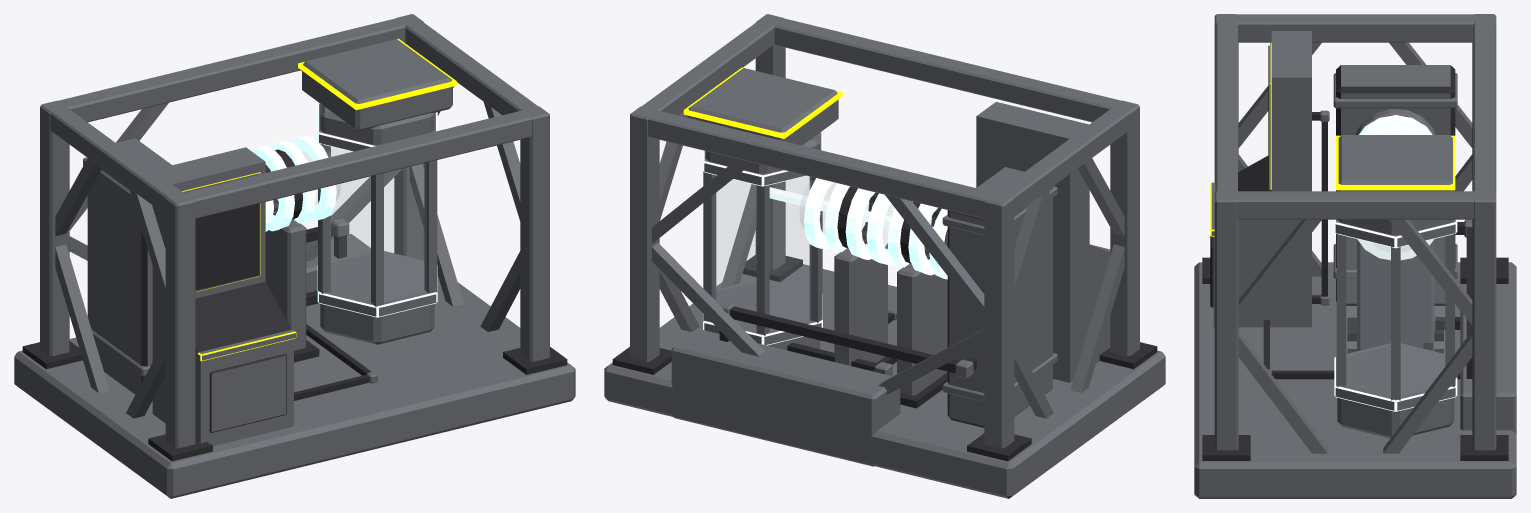
Rendered from ReactorS2.fbx.
3 renders of one model, left to right at view 1: azimuth 30°, elevation 25°; view 2: azimuth 150°, elevation 25°; view 3: azimuth 270°, elevation 25°, orthographic. The views are drawn at different scales.
Visible parts, largest first — view 1: Frame, Rail, Vessel Bands, Wiring, Coil 7, Coil 5, Coil 6; view 2: Frame, Rail, Vessel Bands, Wiring, Coil 5, Coil 7, Coil 4, Coil 6, Coil 2, Coil 3, Beam; view 3: Frame, Rail, Vessel Bands, Wiring, Coil 1, Coil 7.
Boxes of the visible parts, left/top/right/bottom form: Frame: left=14, top=14, right=575, bottom=498; Rail: left=83, top=39, right=456, bottom=394; Vessel Bands: left=317, top=103, right=437, bottom=317; Wiring: left=294, top=218, right=377, bottom=400; Coil 7: left=290, top=136, right=336, bottom=221; Coil 5: left=251, top=146, right=294, bottom=231; Coil 6: left=269, top=141, right=315, bottom=224; Frame: left=604, top=14, right=1165, bottom=498; Rail: left=683, top=67, right=1057, bottom=427; Vessel Bands: left=703, top=132, right=822, bottom=345; Wiring: left=719, top=301, right=976, bottom=378; Coil 5: left=845, top=188, right=894, bottom=260; Coil 7: left=804, top=178, right=833, bottom=249; Coil 4: left=866, top=193, right=892, bottom=265; Coil 6: left=824, top=183, right=869, bottom=252; Coil 2: left=908, top=203, right=937, bottom=275; Coil 3: left=887, top=201, right=931, bottom=268; Beam: left=769, top=187, right=933, bottom=227; Frame: left=1194, top=14, right=1516, bottom=498; Rail: left=1333, top=65, right=1457, bottom=438; Vessel Bands: left=1334, top=219, right=1457, bottom=411; Wiring: left=1263, top=110, right=1472, bottom=379; Coil 1: left=1359, top=115, right=1432, bottom=134; Coil 7: left=1357, top=239, right=1433, bottom=260.
Bounding box in the file's own units: 3 × 2 × 2.
